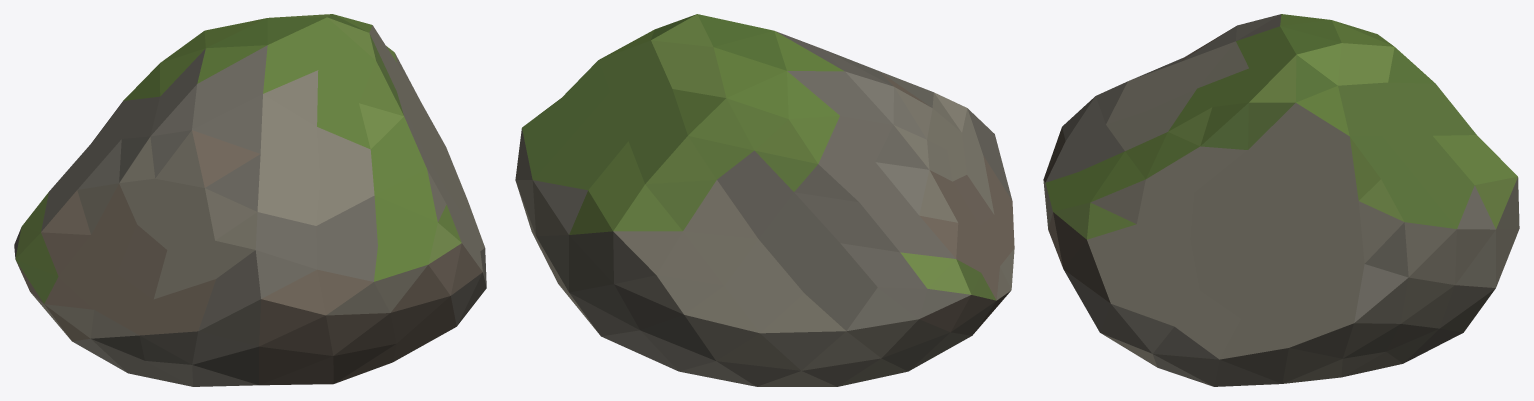
File: rock_mossy_small.glb
The picture shows the model from 3 angles, left to right: view 1: azimuth 30°, elevation 25°; view 2: azimuth 150°, elevation 25°; view 3: azimuth 270°, elevation 25°; orthographic projection. The views are drawn at different scales.
Parts seen in each view (by area): view 1: orchard_rock_mossy_small_Stone; view 2: orchard_rock_mossy_small_Stone; view 3: orchard_rock_mossy_small_Stone.
Part boxes in pixels (<box>): orchard_rock_mossy_small_Stone: <box>14,14,486,386</box>; orchard_rock_mossy_small_Stone: <box>515,14,1014,386</box>; orchard_rock_mossy_small_Stone: <box>1043,14,1519,386</box>.
Bounding box in the file's own units: 0.7743 × 0.4773 × 0.7009.
